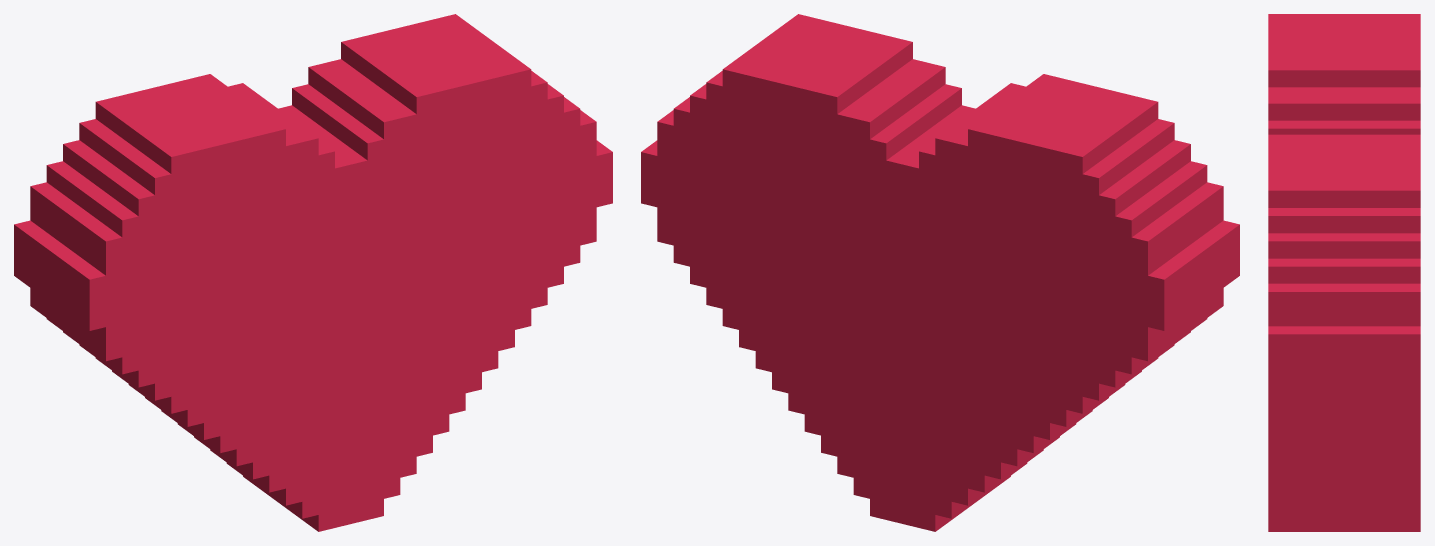
The model's file is Heart.fbx.
3 renders of one model, left to right at view 1: azimuth 30°, elevation 25°; view 2: azimuth 150°, elevation 25°; view 3: azimuth 270°, elevation 25°, orthographic.
Visible parts, largest first — view 1: generated; view 2: generated; view 3: generated.
Part boxes in pixels (x1,y1,x2,y2): generated: [14, 14, 612, 531]; generated: [641, 14, 1239, 531]; generated: [1268, 14, 1420, 531].
Bounding box in the file's own units: 320 × 240 × 80.
